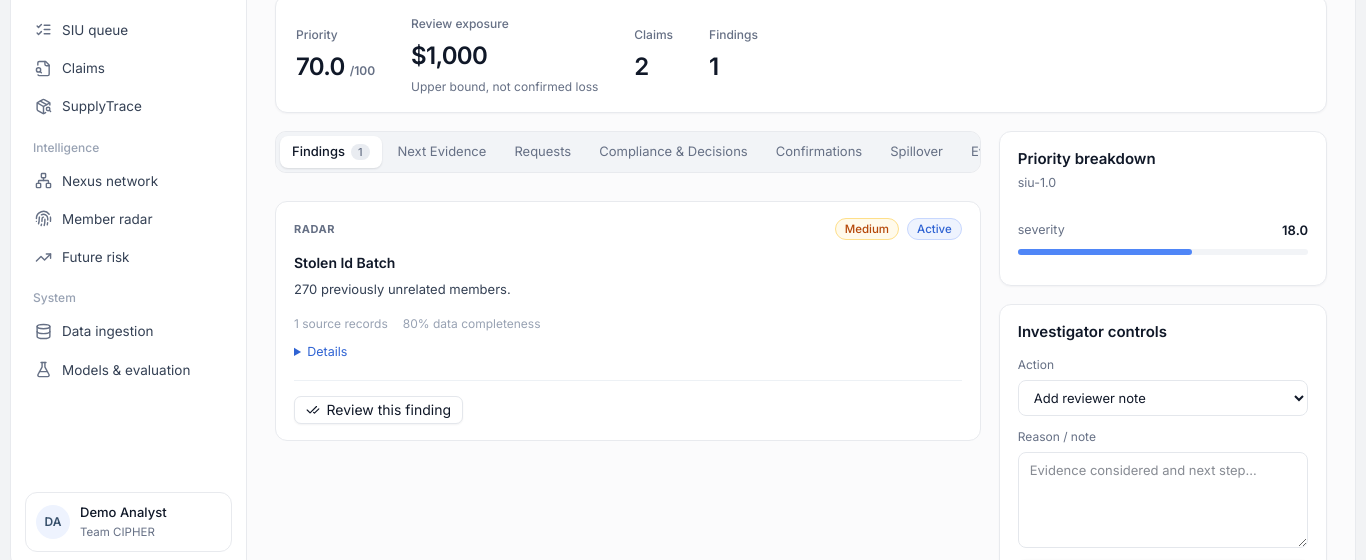
Scenario: Investigation extensions › simulates an outcome without any write request
Click the tab "next evidence" at (442, 152), box [386,136,498,168]
(page scrolled)
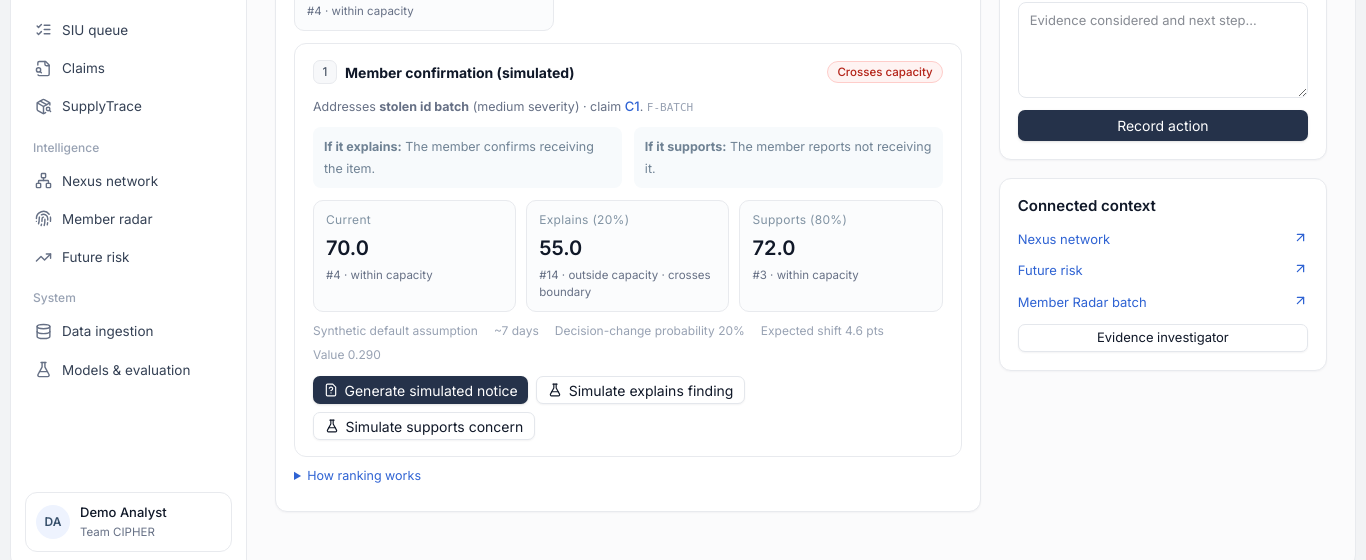
Click the button "Simulate explains finding" at (641, 390), box [536,376,745,404]
(page scrolled)
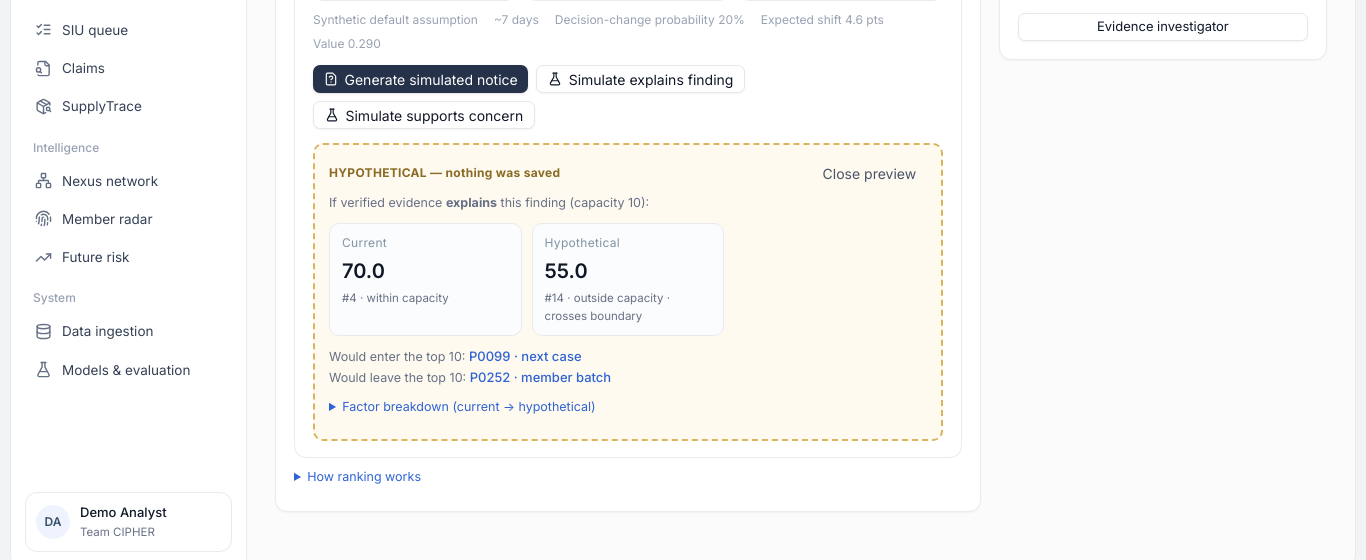
Now the text "HYPOTHETICAL — nothing was saved" is shown, box [329,164,560,182]
Now the link "P0099 · next case" is shown, box [469,346,582,367]
